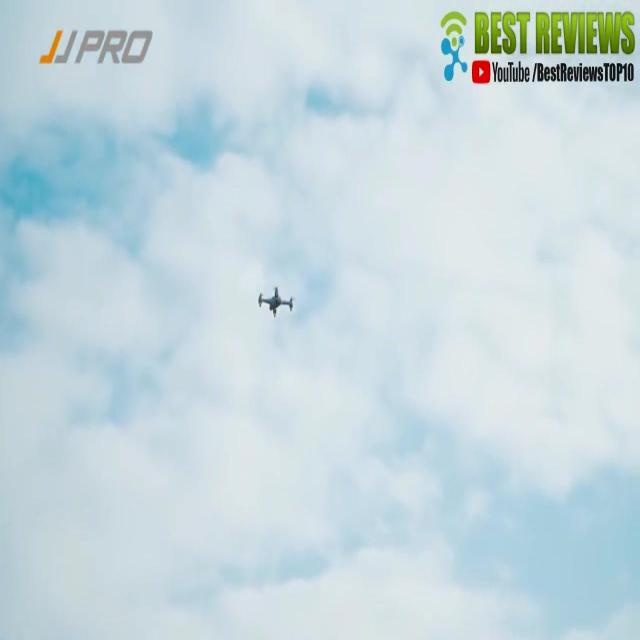drone: (256, 284, 296, 322)
